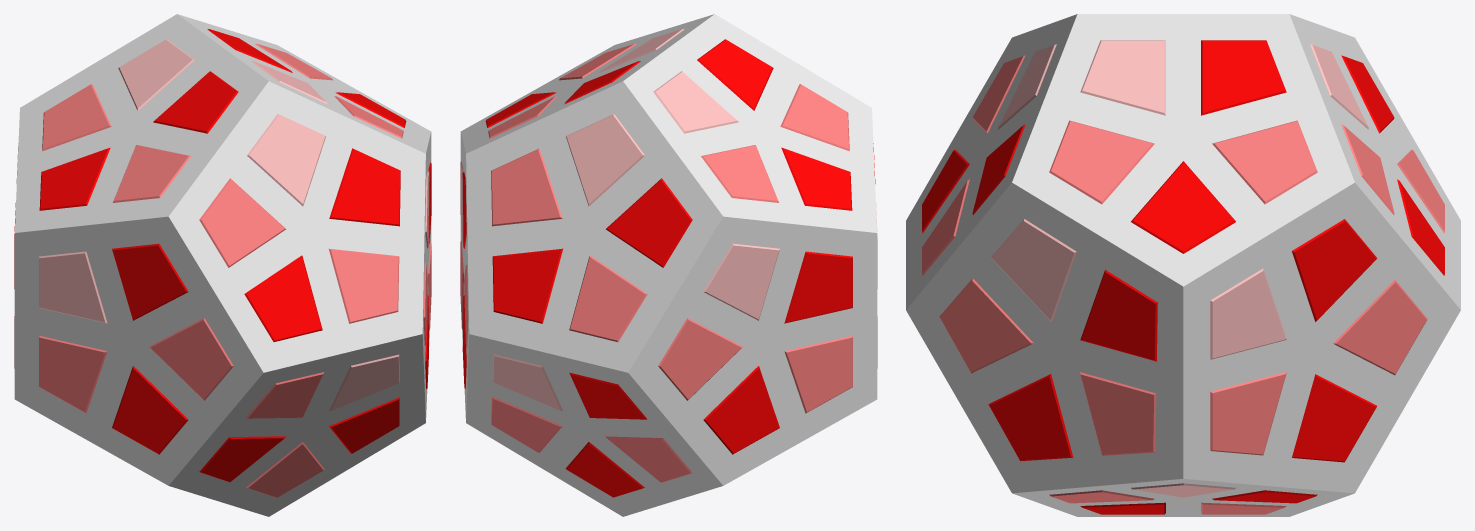
Rendered from PentaGoneDodecahedre.fbx.
The picture shows the model from 3 angles, left to right: view 1: azimuth 30°, elevation 25°; view 2: azimuth 150°, elevation 25°; view 3: azimuth 270°, elevation 25°; orthographic projection. The views are drawn at different scales.
Parts seen in each view (by area): view 1: Platonic, Cylinder_1_2_4, Cylinder_1_2_5, Cylinder_1_2_1, Cylinder_1_2_3, Cylinder_1_2_2, Cylinder_1_2_4_8, Cylinder_1_2_1_8, Cylinder_1_2_5_8, Cylinder_1_2_3_8, Cylinder_1_2_2_8, Cylinder_1_2_4_10 (+14 smaller); view 2: Platonic, Cylinder_1_2_2_5, Cylinder_1_2_1_5, Cylinder_1_2_5_5, Cylinder_1_2_3_5, Cylinder_1_2_4_5, Cylinder_1_2_3_7, Cylinder_1_2_1_7, Cylinder_1_2_2_7, Cylinder_1_2_4_7, Cylinder_1_2_5_7, Cylinder_1_2_5_10 (+14 smaller); view 3: Platonic, Cylinder_1_2_5_9, Cylinder_1_2_2_9, Cylinder_1_2_4_9, Cylinder_1_2_3_9, Cylinder_1_2_1_9, Cylinder_1_2_2_4, Cylinder_1_2_3_4, Cylinder_1_2_5_3, Cylinder_1_2_4_3, Cylinder_1_2_1_4, Cylinder_1_2_1_3 (+19 smaller).
Part boxes in pixels (x1,y1,x2,y2): Platonic: [14, 14, 431, 516]; Cylinder_1_2_4: [329, 148, 400, 226]; Cylinder_1_2_5: [329, 248, 399, 323]; Cylinder_1_2_1: [244, 255, 322, 341]; Cylinder_1_2_3: [247, 114, 326, 206]; Cylinder_1_2_2: [199, 178, 285, 267]; Cylinder_1_2_4_8: [112, 243, 188, 320]; Cylinder_1_2_1_8: [112, 366, 188, 454]; Cylinder_1_2_5_8: [149, 318, 233, 400]; Cylinder_1_2_3_8: [39, 251, 107, 323]; Cylinder_1_2_2_8: [39, 335, 107, 413]; Cylinder_1_2_4_10: [153, 71, 238, 133]; Platonic: [460, 14, 877, 516]; Cylinder_1_2_2_5: [491, 148, 562, 226]; Cylinder_1_2_1_5: [492, 248, 562, 323]; Cylinder_1_2_5_5: [569, 255, 647, 341]; Cylinder_1_2_3_5: [565, 114, 644, 206]; Cylinder_1_2_4_5: [606, 178, 692, 267]; Cylinder_1_2_3_7: [703, 243, 779, 320]; Cylinder_1_2_1_7: [703, 366, 779, 454]; Cylinder_1_2_2_7: [658, 318, 742, 400]; Cylinder_1_2_4_7: [784, 251, 852, 323]; Cylinder_1_2_5_7: [784, 335, 852, 413]; Cylinder_1_2_5_10: [780, 84, 849, 151]; Platonic: [906, 14, 1460, 516]; Cylinder_1_2_5_9: [1212, 120, 1317, 204]; Cylinder_1_2_2_9: [1049, 120, 1154, 204]; Cylinder_1_2_4_9: [1201, 40, 1286, 115]; Cylinder_1_2_3_9: [1080, 40, 1165, 115]; Cylinder_1_2_1_9: [1131, 161, 1235, 253]; Cylinder_1_2_2_4: [1210, 371, 1286, 455]; Cylinder_1_2_3_4: [1210, 268, 1286, 359]; Cylinder_1_2_5_3: [1080, 372, 1156, 455]; Cylinder_1_2_4_3: [1080, 269, 1157, 361]; Cylinder_1_2_1_4: [1292, 374, 1376, 462]; Cylinder_1_2_1_3: [988, 374, 1073, 461].
Size of the model in its own units: 290 by 290 by 290.
